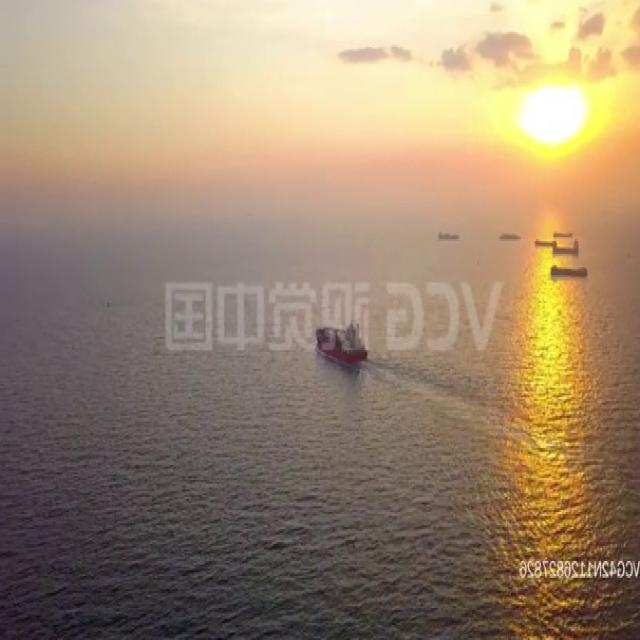cargoship: (311, 315, 381, 379), (542, 263, 595, 289), (554, 234, 584, 265)
